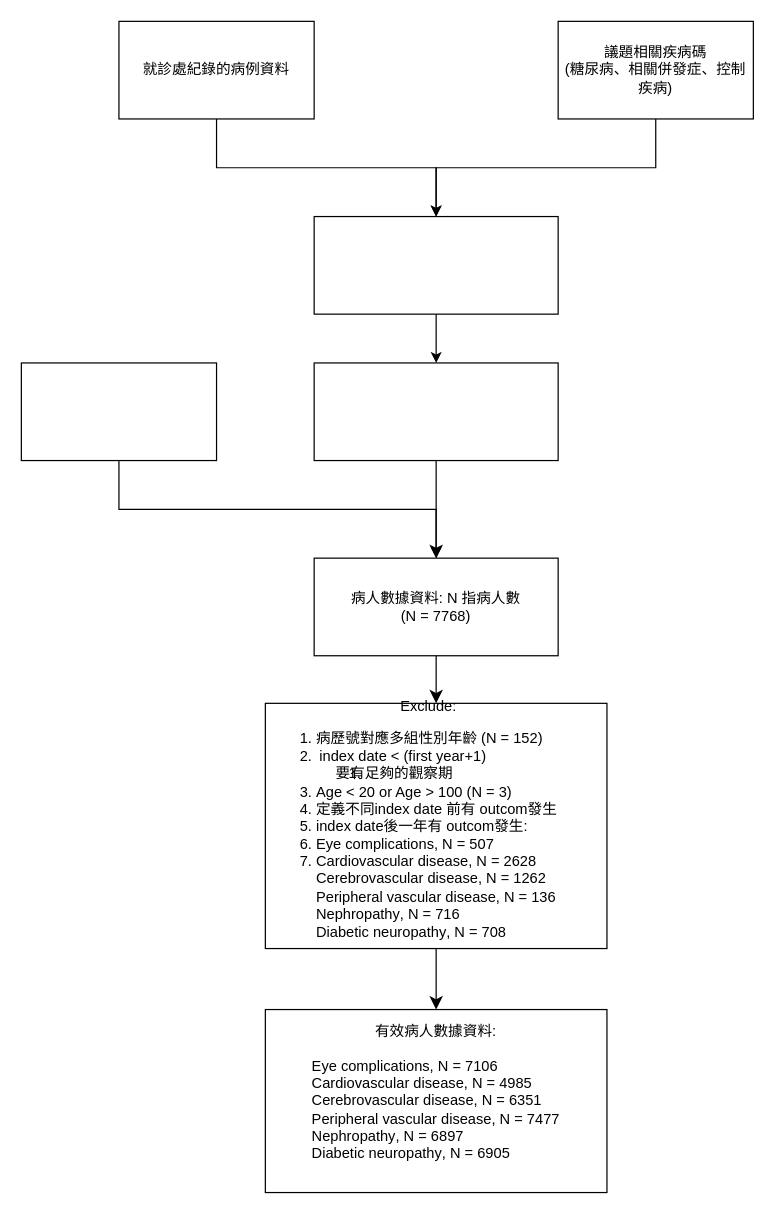
Image size: 775x1214. Some labels were removed from this diagram. The centre of each missing label's shape, as x and y in pixels:
"病人基本資料" belongs at [118,411].
"目標疾病相關的病歷紀錄 (26種疾病、三院、(門診、住院)" belongs at [435,264].
"篩選目標病患病人及相關病歷資料 操作定義: 一年內2次門診或1次住院糖尿病紀錄" belongs at [435,411].
